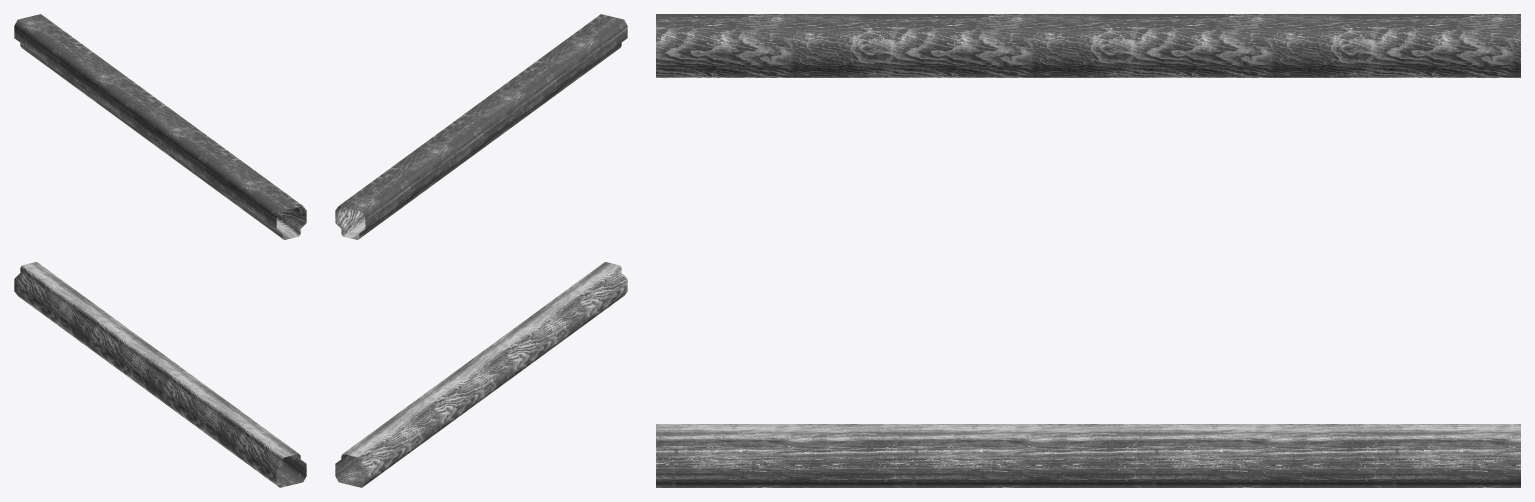
The model's file is SM_Fence_A3_Splines_0.fbx.
The picture shows the model from 3 angles, left to right: view 1: azimuth 30°, elevation 25°; view 2: azimuth 150°, elevation 25°; view 3: azimuth 270°, elevation 25°; orthographic projection. The views are drawn at different scales.
Parts seen in each view (by area): view 1: SM_Fence_A3_Splines_0; view 2: SM_Fence_A3_Splines_0; view 3: SM_Fence_A3_Splines_0.
Boxes of the visible parts, x1,y1,x2,y2 form: SM_Fence_A3_Splines_0: [14, 14, 306, 487]; SM_Fence_A3_Splines_0: [335, 14, 627, 487]; SM_Fence_A3_Splines_0: [656, 14, 1520, 487].
Bounding box in the file's own units: 6.56 × 100 × 58.09.
Materials: 1 (1 with a texture image).
